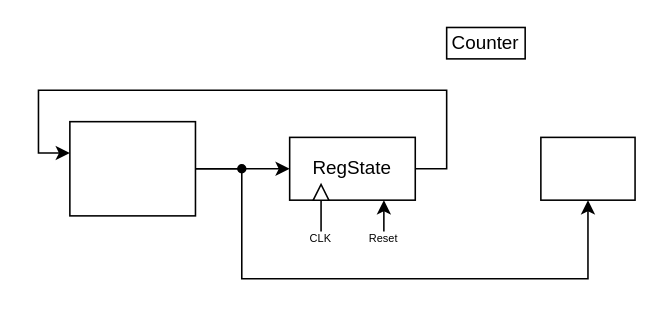
This 663x319 diagram has some shape labels left out. The centre of each missing label's shape, as x and y in pixels:
Next State Logic: [131,168]
Output Logic: [587,168]
